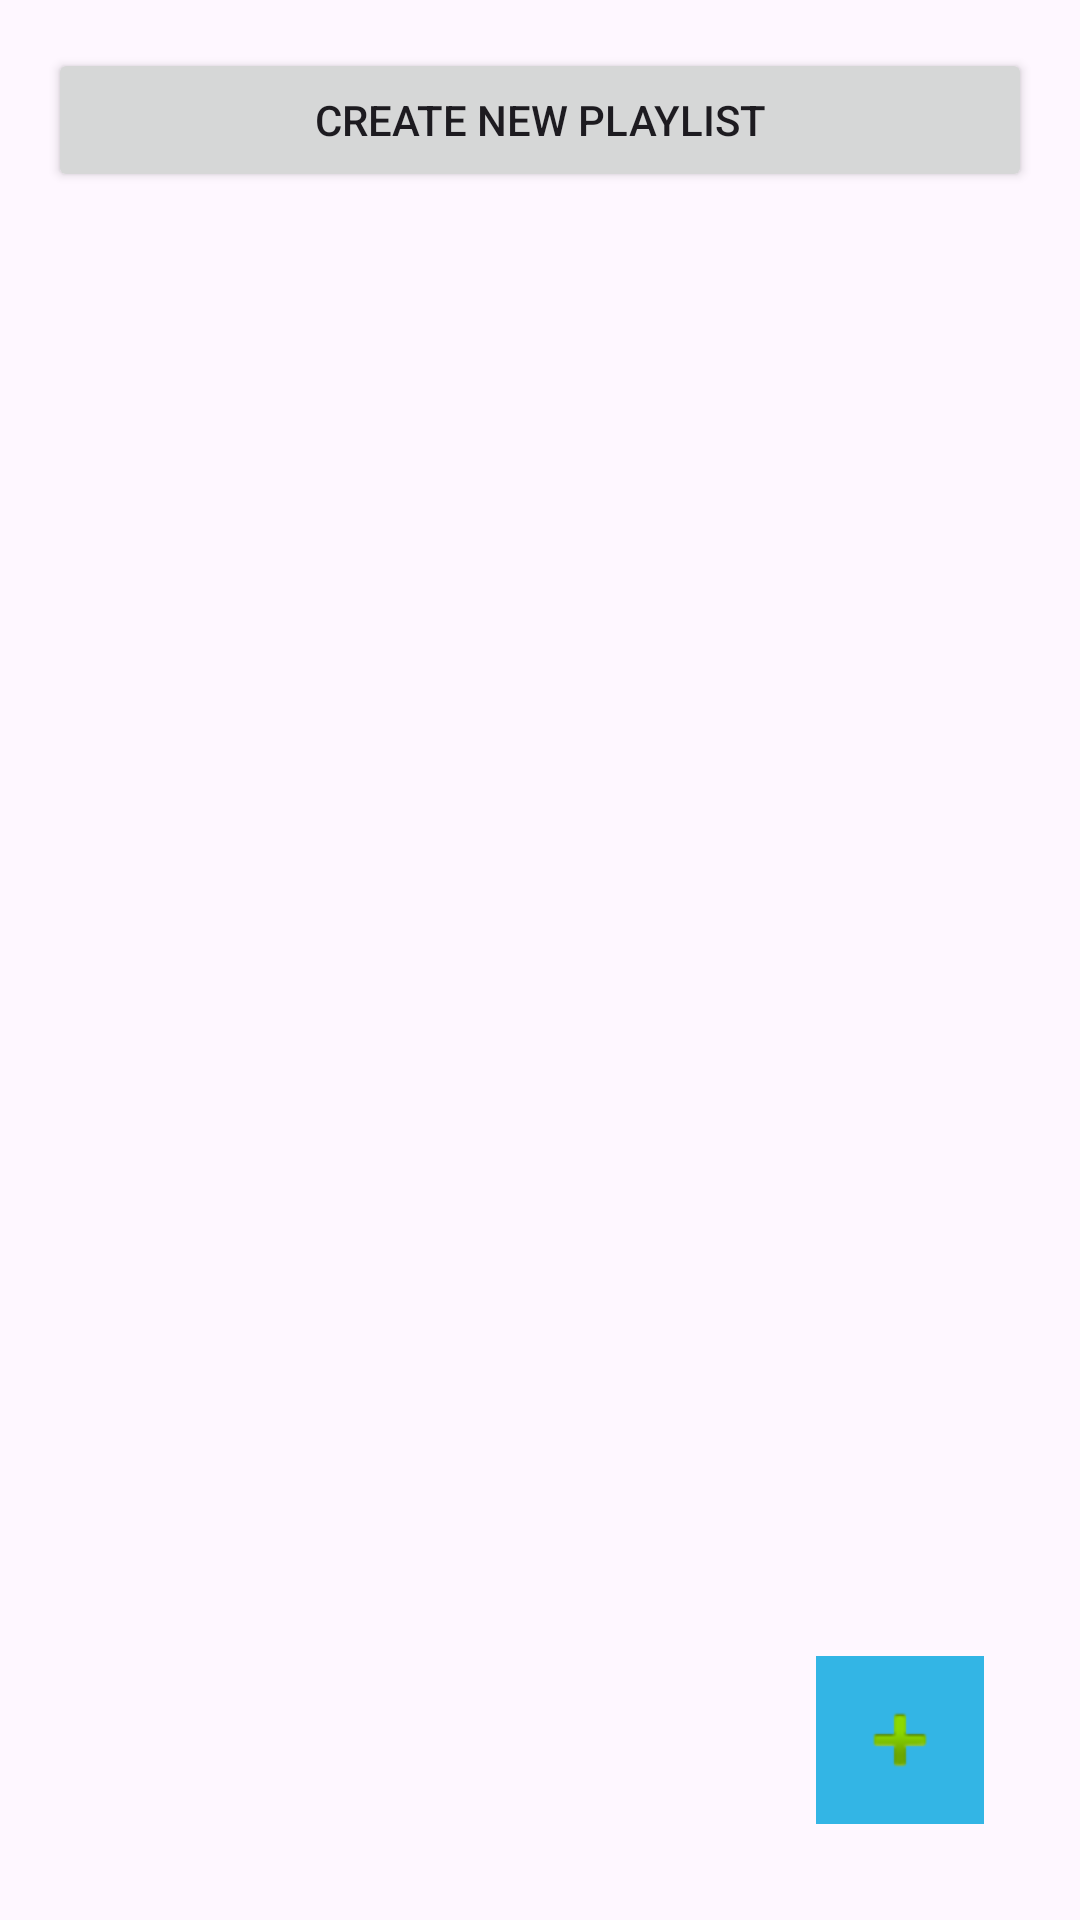

Where to tap for icons on this 1080 × 1920 app screen, as (x,y):
Add Playlist: (900,1740)
